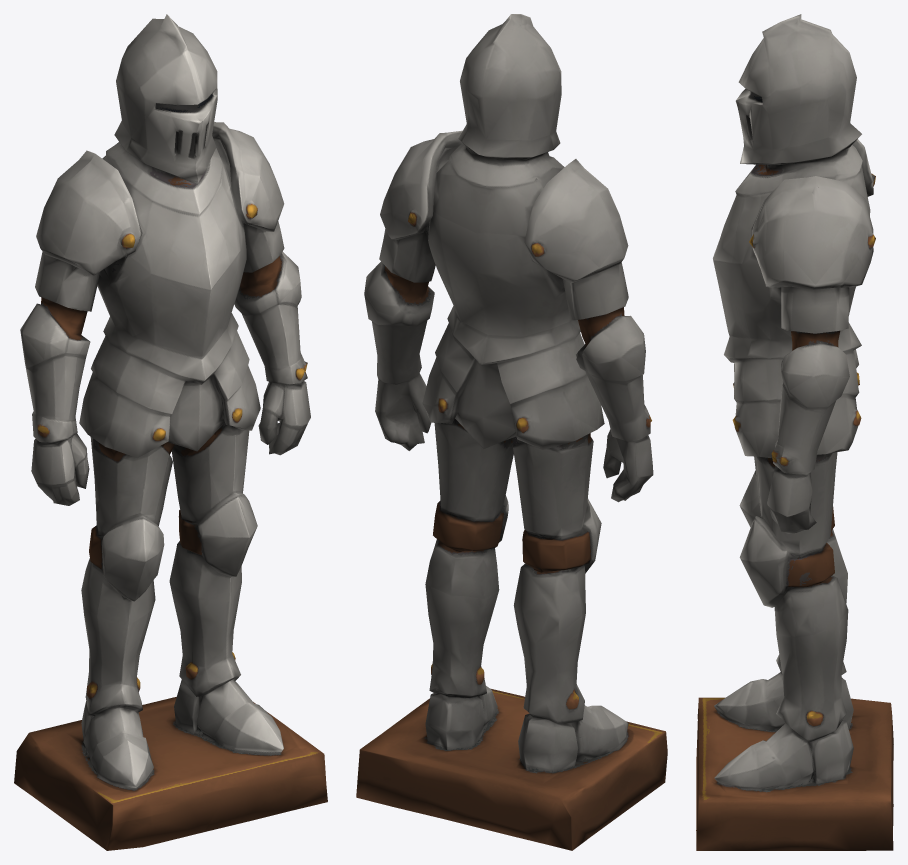
The model's file is vestibule-armor-display.glb.
3 views of the same model, side by side, from view 1: azimuth 30°, elevation 25°; view 2: azimuth 150°, elevation 25°; view 3: azimuth 270°, elevation 25° (orthographic).
Parts seen in each view (by area): view 1: vestibule-armor-display; view 2: vestibule-armor-display; view 3: vestibule-armor-display.
Boxes of the visible parts, x1=… form: vestibule-armor-display: x1=14, y1=14, x2=327, y2=850; vestibule-armor-display: x1=356, y1=14, x2=667, y2=850; vestibule-armor-display: x1=696, y1=14, x2=893, y2=850.
Bounding box in the file's own units: 0.65 × 1.75 × 0.4.
Materials: 1 (1 with a texture image).
